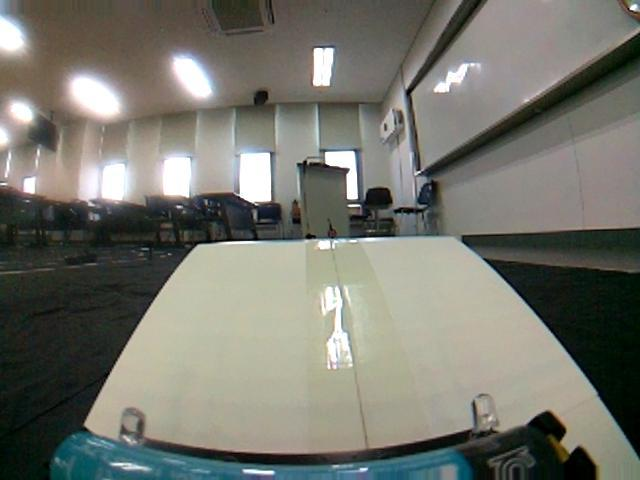hill_up: (15, 236, 640, 479)
